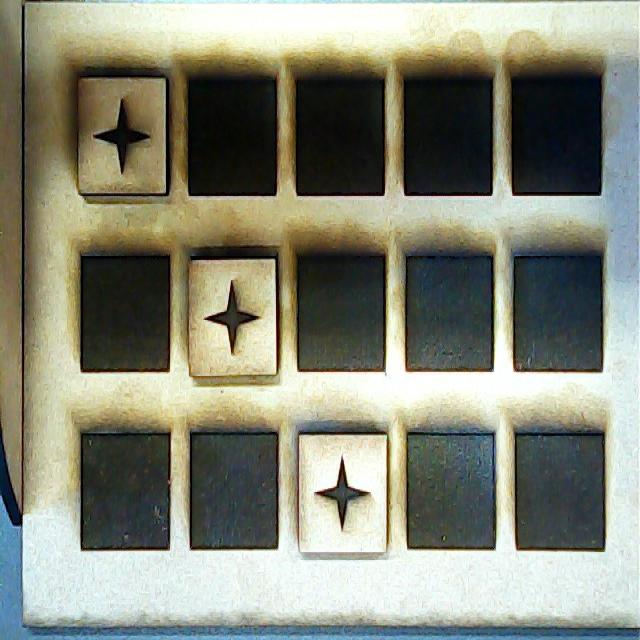star: (78, 72, 170, 198), (190, 248, 279, 376), (298, 434, 388, 556)
